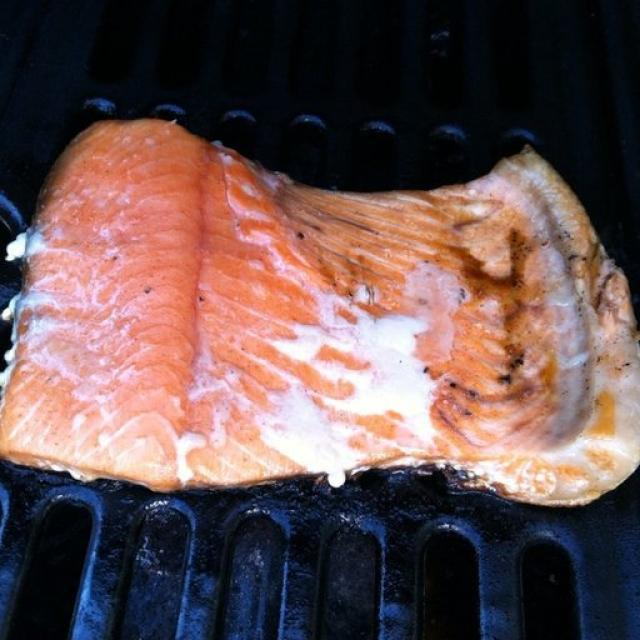Salmon: (7, 111, 640, 507)
